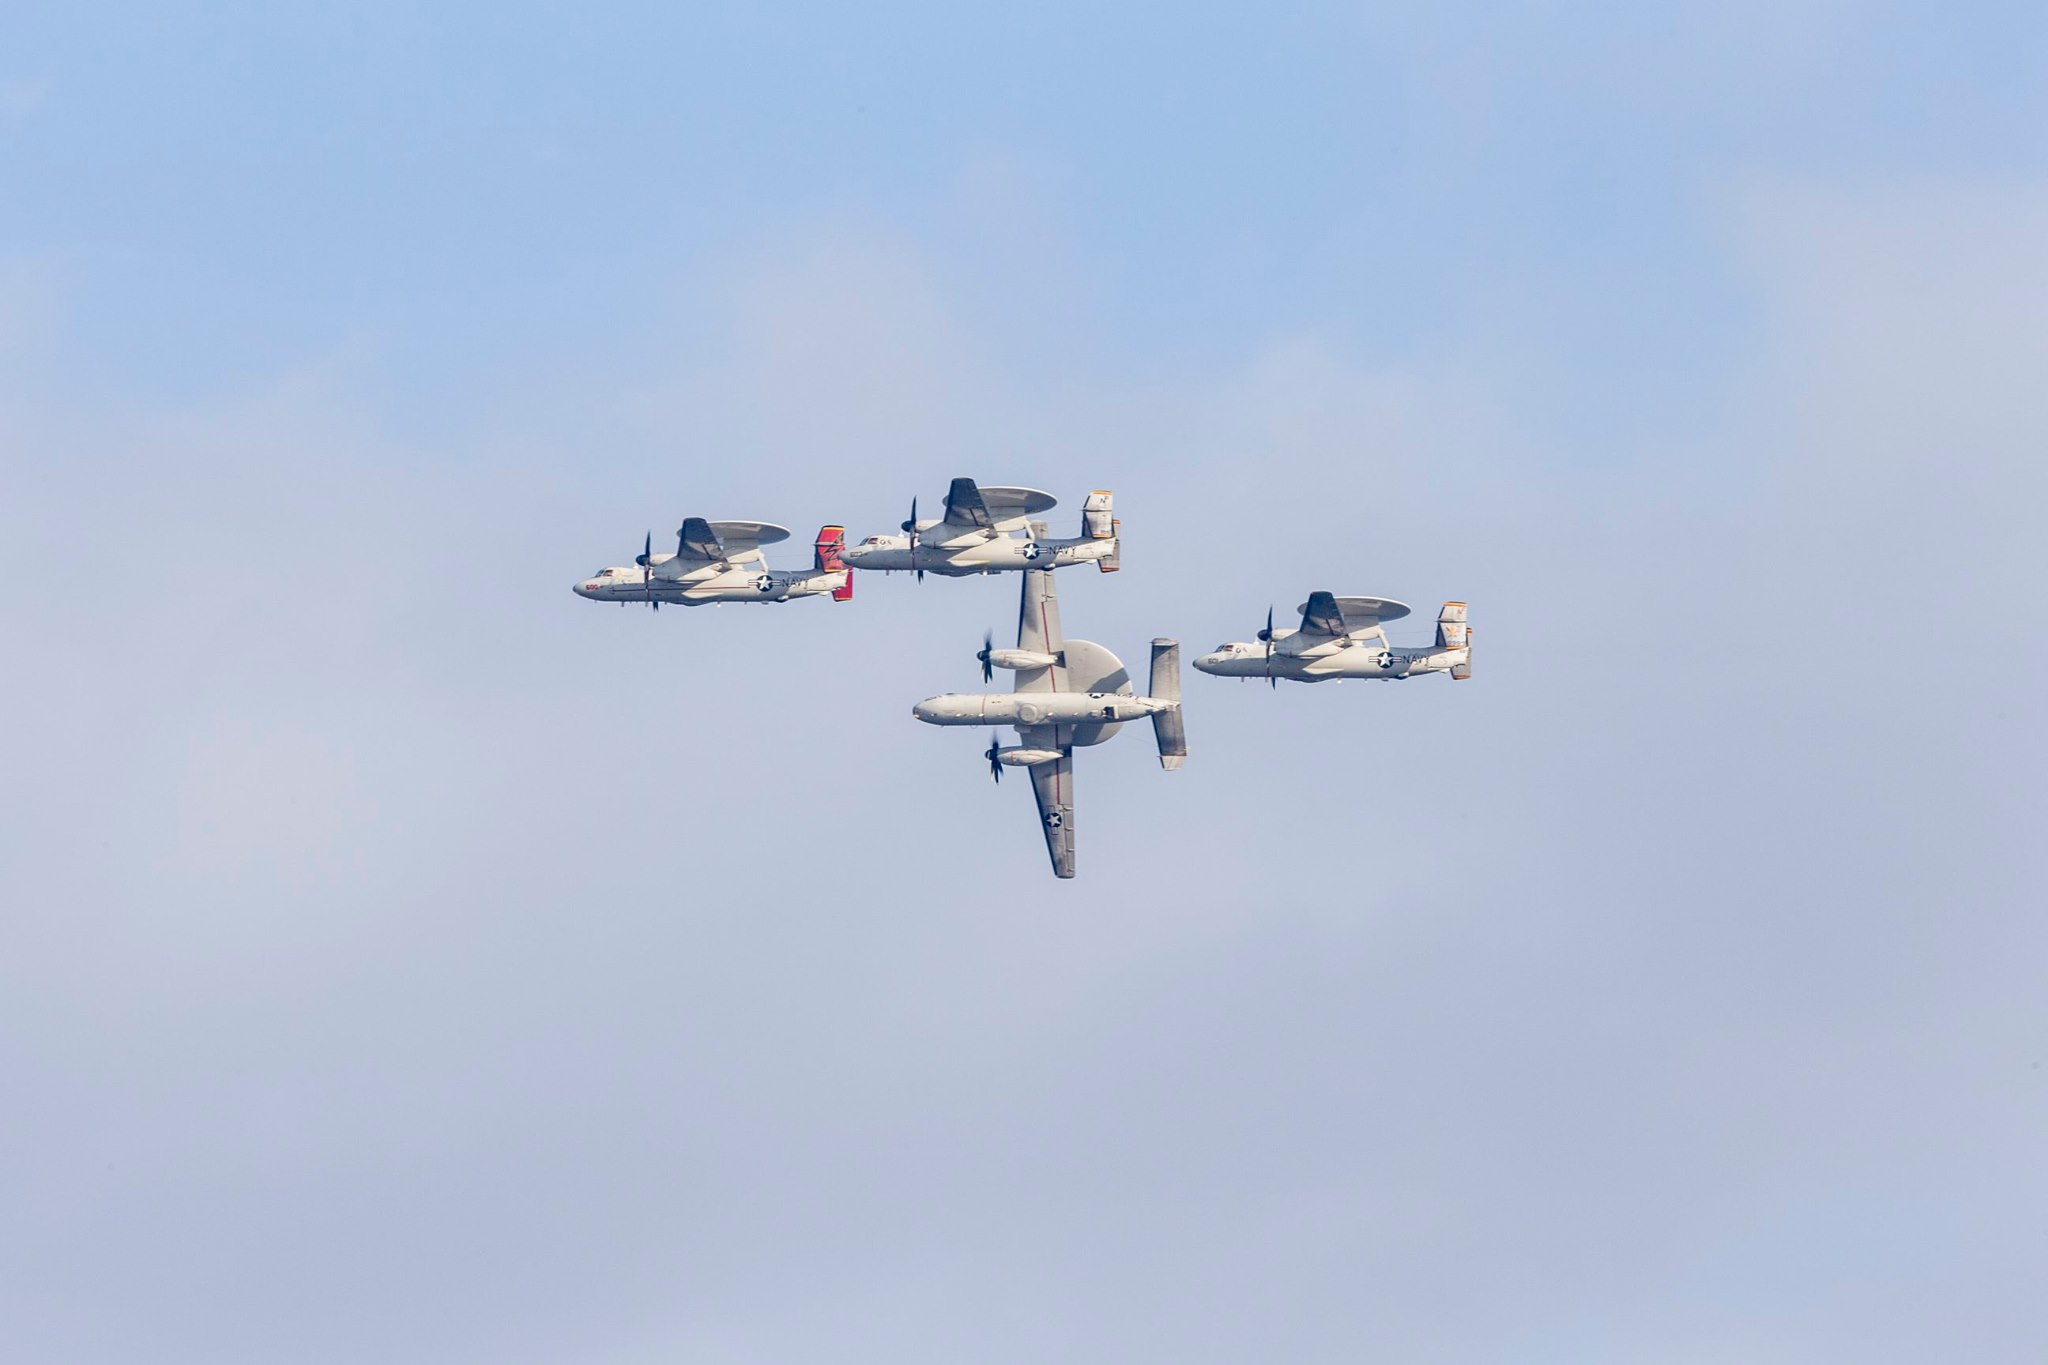E2: (911, 518, 1191, 879), (836, 475, 1121, 585), (1191, 590, 1472, 692), (571, 516, 854, 612)
